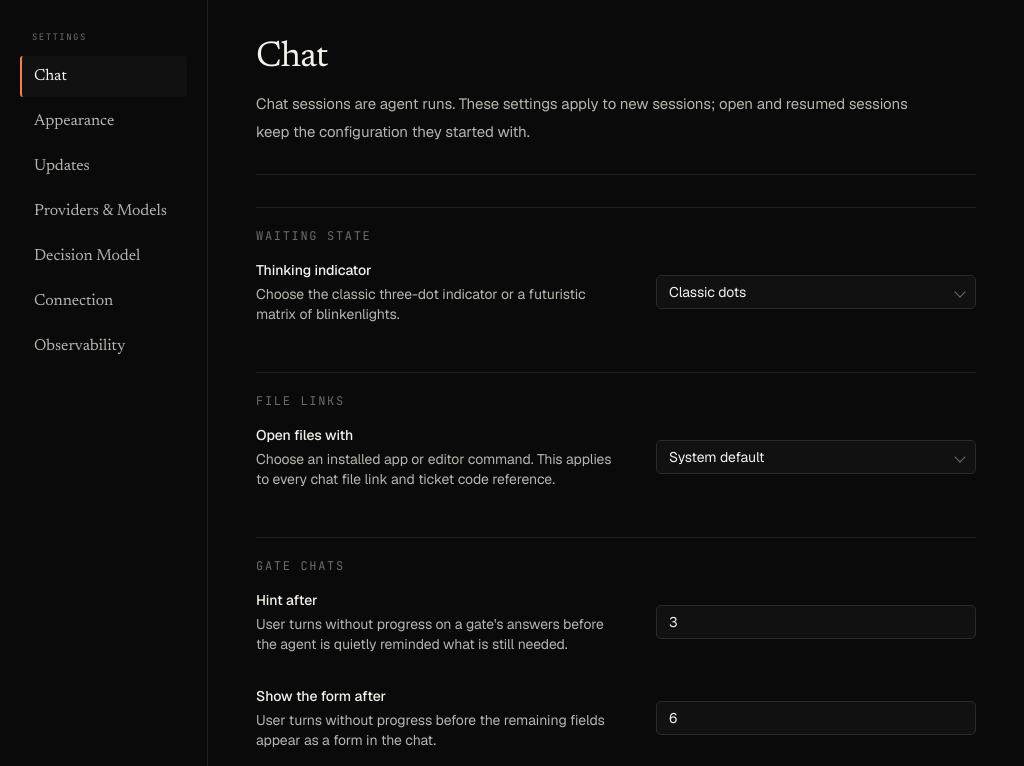
Test: SettingsPage › shows the externally managed backend notice separately from frontend updates
Click the button with test id "settings-nav-updates" at (104, 167), box [20, 146, 187, 187]
(page scrolled)
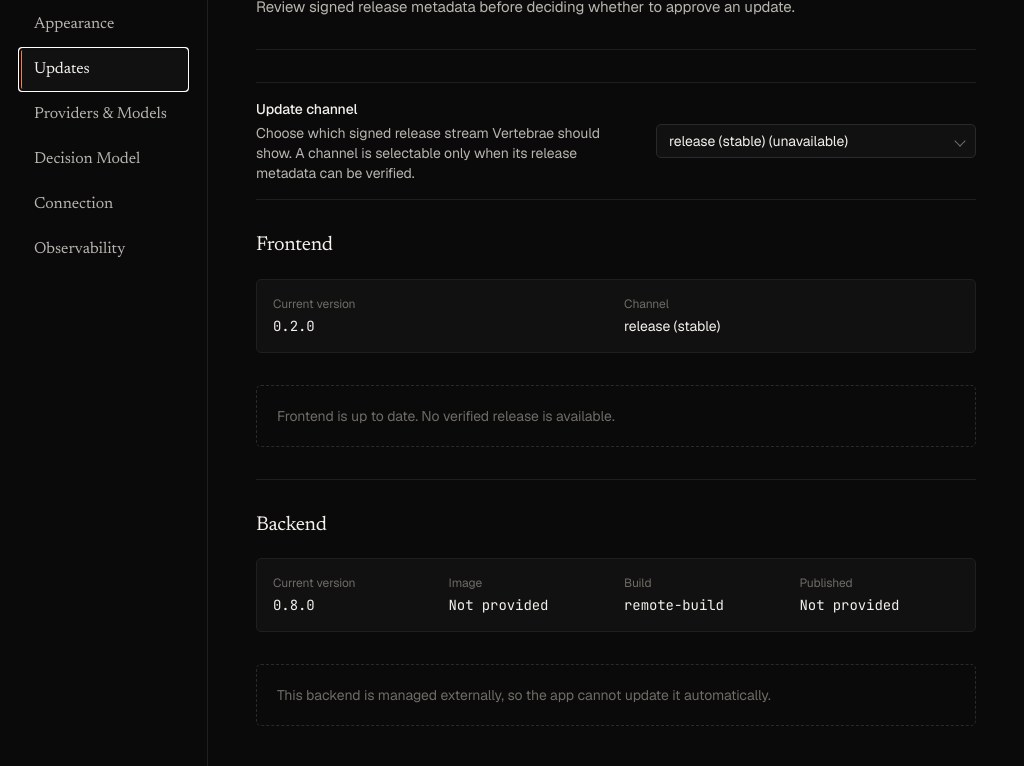
Expected: the element with test id "settings-frontend-updates" shows "Frontend", [256, 235, 333, 255]
Expected: the element with test id "settings-frontend-current" shows "0.2.0", [273, 317, 315, 335]
Expected: the element with test id "settings-backend-updates" shows "Backend", [256, 515, 327, 535]
